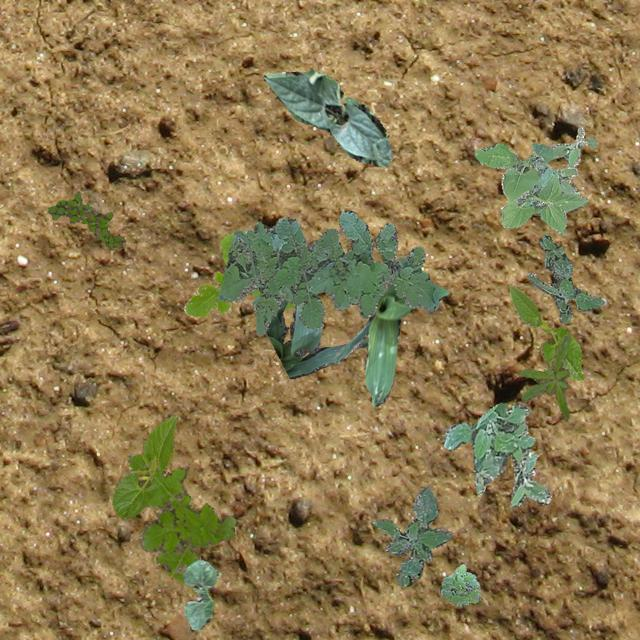crop: (332, 282, 448, 406), (262, 68, 390, 166), (251, 294, 367, 378), (508, 284, 582, 379), (111, 414, 176, 518), (182, 558, 216, 630)
weed: (215, 210, 438, 334), (127, 452, 236, 582), (442, 402, 550, 504), (474, 142, 586, 234), (182, 232, 294, 318), (372, 486, 450, 586), (526, 232, 604, 322), (46, 190, 125, 248), (518, 334, 570, 418), (534, 126, 596, 194), (438, 564, 479, 606)
